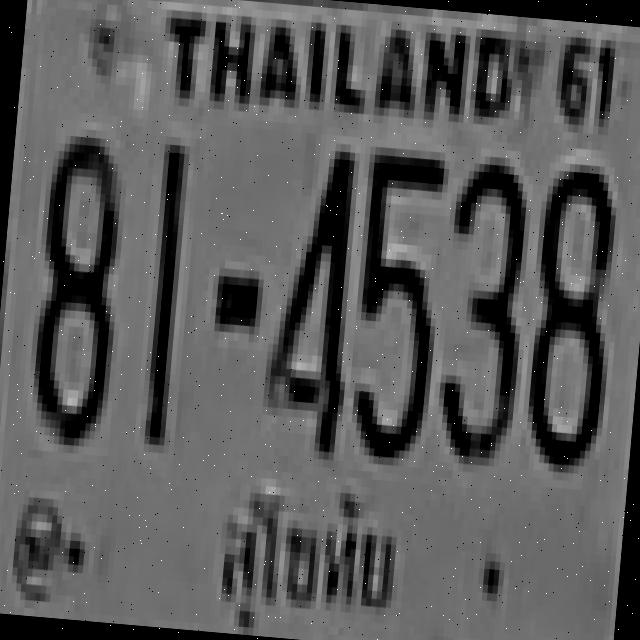1: (139, 140, 185, 440)
3: (429, 154, 530, 459)
4: (254, 138, 360, 452)
5: (344, 142, 446, 456)
8: (24, 126, 126, 439), (518, 154, 620, 466)
Sukhothai: (203, 479, 404, 640)
